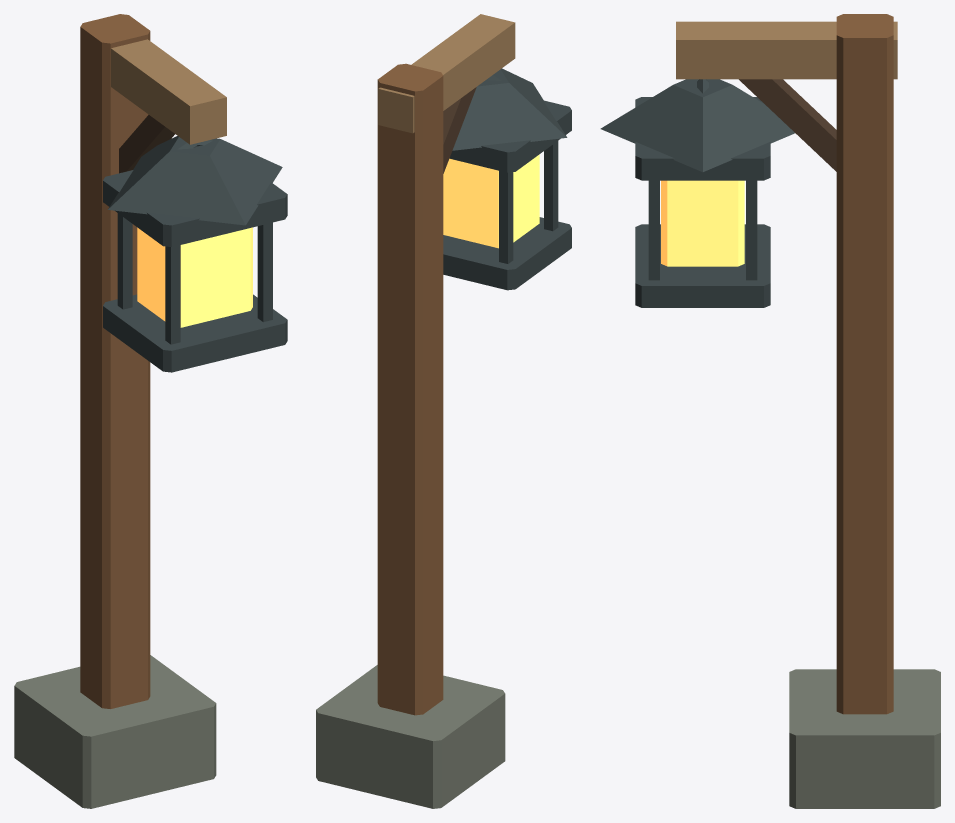
The model's file is lamp_post.glb.
3 renders of one model, left to right at view 1: azimuth 30°, elevation 25°; view 2: azimuth 150°, elevation 25°; view 3: azimuth 270°, elevation 25°, orthographic. The views are drawn at different scales.
Parts seen in each view (by area): view 1: geometry, light; view 2: geometry, light; view 3: geometry, light.
Part boxes in pixels (x1,y1,x2,y2): geometry: (14,14,287,808); light: (137,227,252,327); geometry: (316,14,571,808); light: (443,154,539,248); geometry: (600,14,940,808); light: (661,180,744,266).
Bounding box in the file's own units: 0.38 × 1.53 × 0.63.
